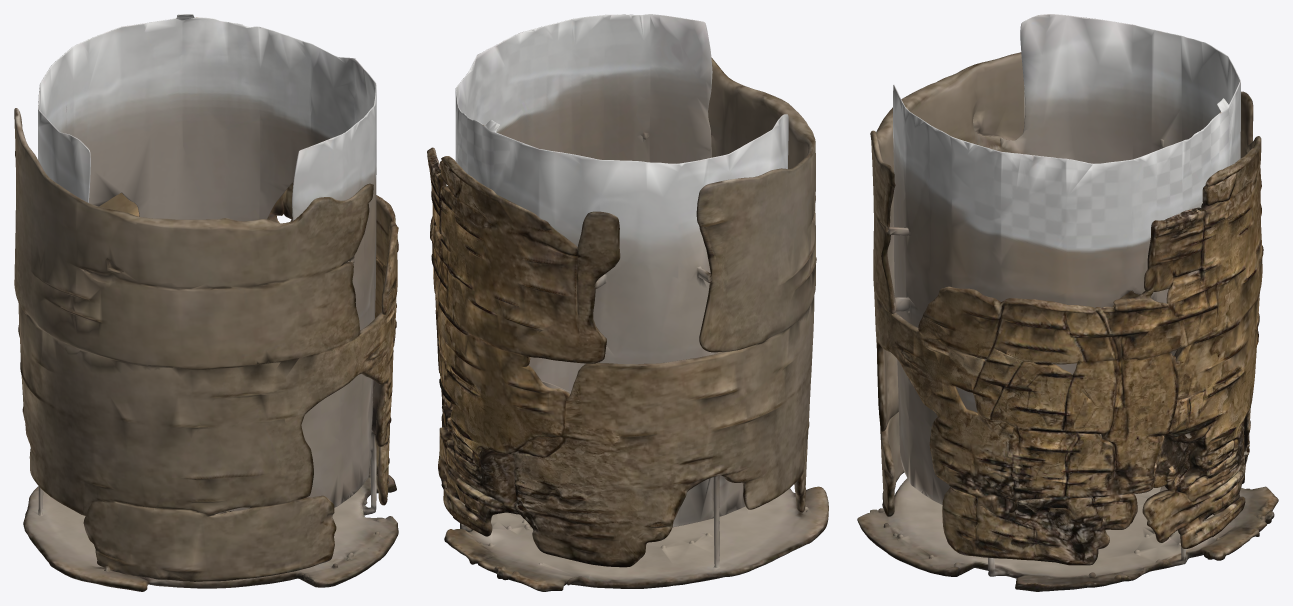
File: container.glb
3 views of the same model, side by side, from view 1: azimuth 30°, elevation 25°; view 2: azimuth 150°, elevation 25°; view 3: azimuth 270°, elevation 25° (orthographic).
Visible parts, largest first — view 1: tripo_node_3e7116dd-48cc-4f65-b4e0-69c6a80b3001; view 2: tripo_node_3e7116dd-48cc-4f65-b4e0-69c6a80b3001; view 3: tripo_node_3e7116dd-48cc-4f65-b4e0-69c6a80b3001.
Boxes of the visible parts, box(x1,y1,x2,y2) form: tripo_node_3e7116dd-48cc-4f65-b4e0-69c6a80b3001: box(14, 14, 398, 591); tripo_node_3e7116dd-48cc-4f65-b4e0-69c6a80b3001: box(427, 14, 828, 591); tripo_node_3e7116dd-48cc-4f65-b4e0-69c6a80b3001: box(857, 14, 1278, 591).
Bounding box in the file's own units: 0.8218 × 0.9999 × 0.868.
Materials: 1 (1 with a texture image).
